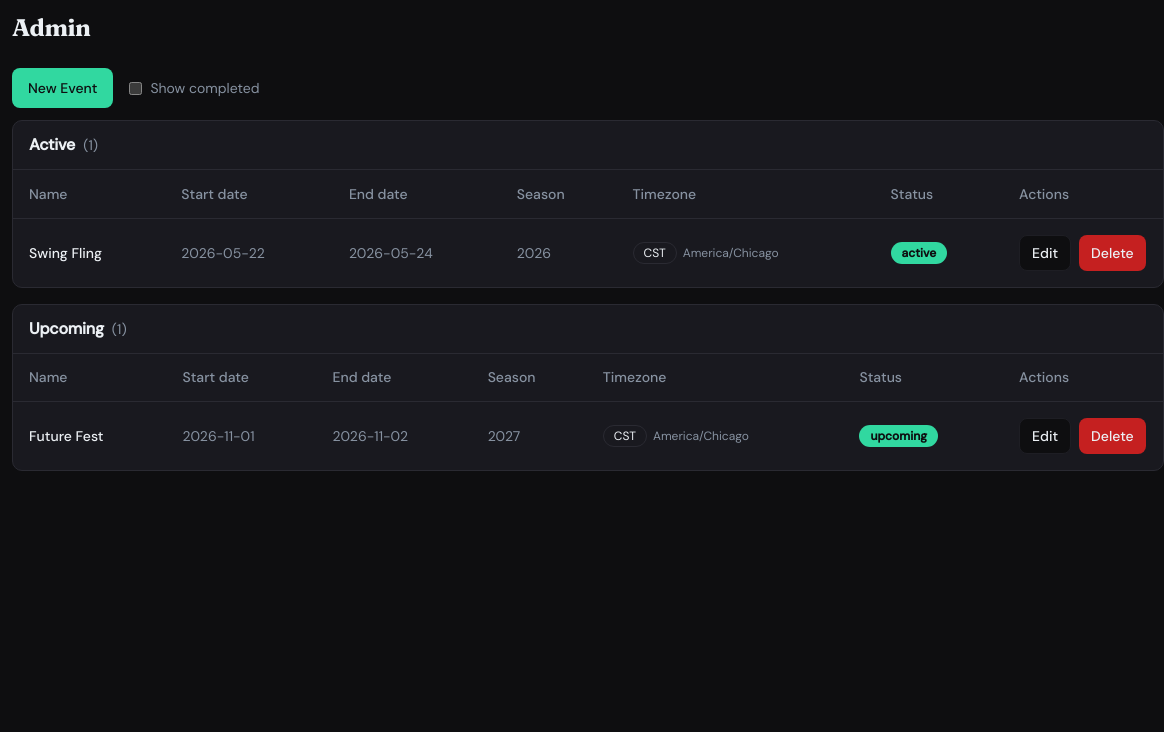
it: AdminPage — Events section › buckets events by status and only shows completed when asked
Expected: the link "Swing Fling" is shown, [29,244,102,262]
Expected: the link "Future Fest" is shown, [29,427,103,445]
Click the checkbox. click: (136, 88)
box: [129,82,142,94]
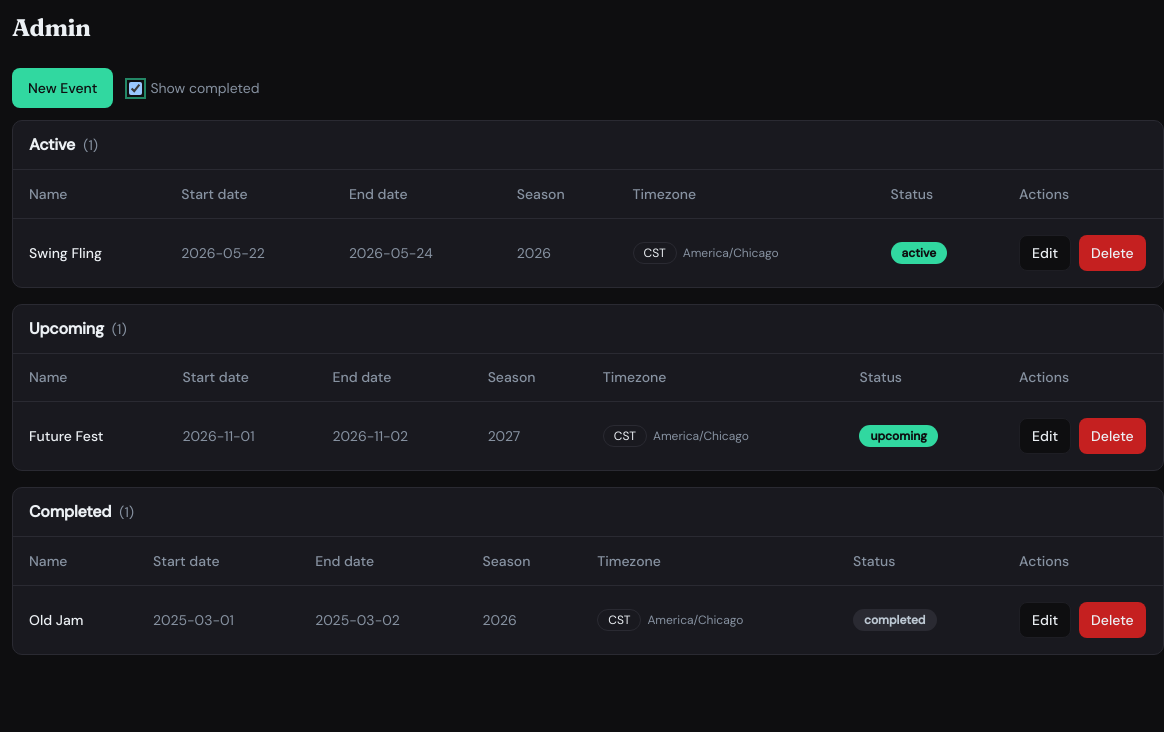
Expected: the heading "Completed" is shown, [29,500,111,524]
Expected: the link "Old Jam" is shown, [29,610,83,628]
